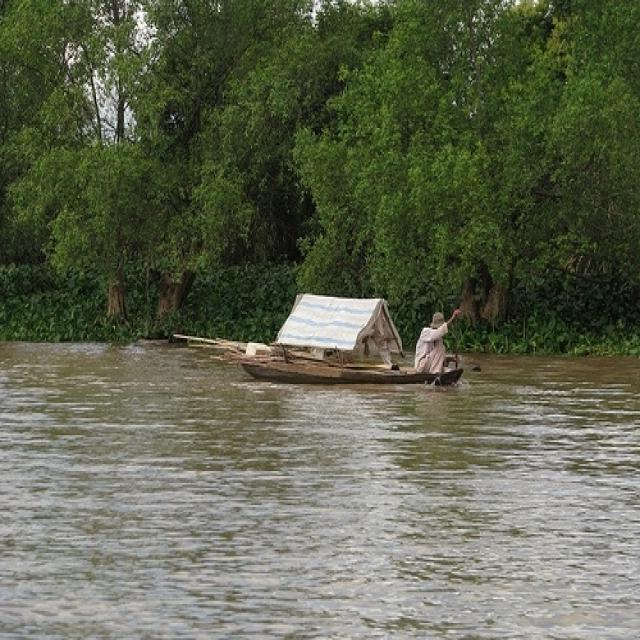Hyacinth: (492, 310, 636, 366)
boat: (203, 346, 485, 388)
